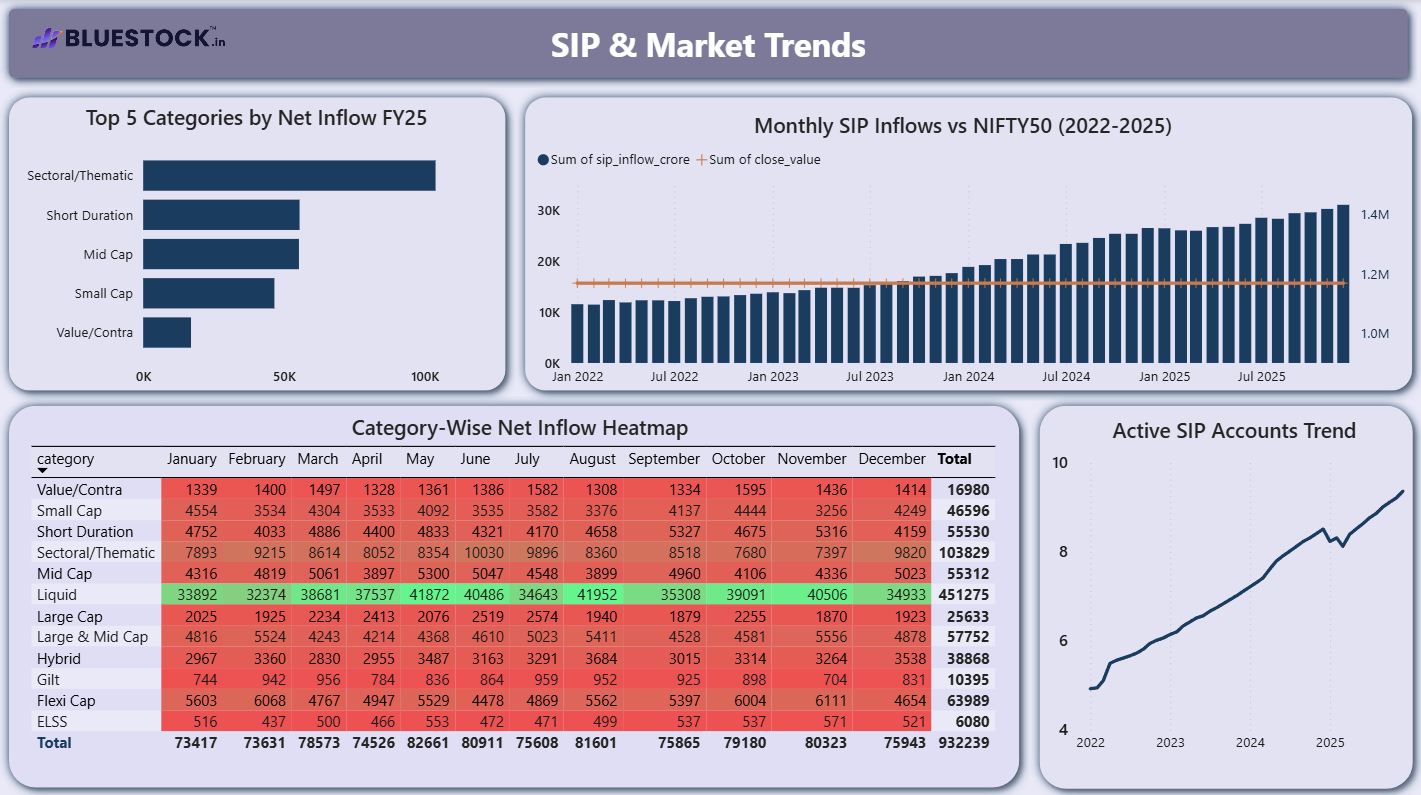

Layout of this report page (visuals, bound fields, positions):
{"tool":"powerbi","page":{"name":"SIP & Market Trends","canvas":[1280,720],"ordinal":3},"visuals":[{"type":"shape","box":[0,79.9,464.7,281.7],"z":0,"group":"g3"},{"type":"group","id":"g1","title":"Group 4","box":[464.7,79.9,816.1,281.7],"z":0},{"type":"shape","box":[464.7,79.9,816.1,281.7],"z":0,"group":"g1"},{"type":"shape","box":[0,357.7,927,361.4],"z":0,"group":"g2"},{"type":"shape","box":[927,357.7,353.6,362.5],"z":0,"group":"g4"},{"type":"clusteredBarChart","title":"Top 5 Categories by Net Inflow FY25","fields":{"Category":["05_category_inflows_clean.category"],"Y":["Sum(05_category_inflows_clean.net_inflow_crore)"]},"box":[17.3,94,430,265.2],"z":1000,"group":"g3"},{"type":"lineClusteredColumnComboChart","title":"Monthly SIP Inflows vs NIFTY50 (2022-2025)","fields":{"Category":["04_monthly_sip_inflows_clean.month"],"Y":["Sum(04_monthly_sip_inflows_clean.sip_inflow_crore)"],"Y2":["Sum(10_nifty50_monthly.close_value)"]},"box":[484.1,100.2,767,258.2],"z":1000,"group":"g1"},{"type":"group","id":"g2","title":"Group 4","box":[0,357.7,927,361.4],"z":1000},{"type":"pivotTable","title":"Category-Wise Net Inflow Heatmap","fields":{"Columns":["05_category_inflows_clean.month.Variation.Date Hierarchy.Month"],"Rows":["05_category_inflows_clean.category"],"Values":["Sum(05_category_inflows_clean.net_inflow_crore)"]},"box":[29,373.1,879.1,329.3],"z":1000,"group":"g2"},{"type":"lineChart","title":"Active SIP Accounts Trend","fields":{"Y":["Sum(04_monthly_sip_inflows_clean.active_sip_accounts_crore)"],"Category":["04_monthly_sip_inflows_clean.month"]},"box":[946.5,375.5,329.2,312.7],"z":1000,"group":"g4"},{"type":"group","id":"g3","title":"Group 4","box":[0,79.9,464.7,281.7],"z":2000},{"type":"group","id":"g4","title":"Group 4","box":[927,357.7,353.9,361.4],"z":3000},{"type":"shape","box":[0,0,1276.4,79.9],"z":4000},{"type":"image","box":[29,14.5,175.7,40.7],"z":5000}]}

Visuals, with their boxes in screenshot pixels (x1, y1, x2, y2), scaled from the page's 1280x720 canvas onto the 1421x795 screenshot:
shape: x1=0 y1=88 x2=516 y2=399
"Group 4" group: x1=516 y1=88 x2=1420 y2=399
shape: x1=516 y1=88 x2=1420 y2=399
shape: x1=0 y1=395 x2=1029 y2=794
shape: x1=1029 y1=395 x2=1420 y2=794
"Top 5 Categories by Net Inflow FY25" clusteredBarChart: x1=19 y1=104 x2=497 y2=397
"Monthly SIP Inflows vs NIFTY50 (2022-2025)" lineClusteredColumnComboChart: x1=537 y1=111 x2=1389 y2=396
"Group 4" group: x1=0 y1=395 x2=1029 y2=794
"Category-Wise Net Inflow Heatmap" pivotTable: x1=32 y1=412 x2=1008 y2=776
"Active SIP Accounts Trend" lineChart: x1=1051 y1=415 x2=1416 y2=760
"Group 4" group: x1=0 y1=88 x2=516 y2=399
"Group 4" group: x1=1029 y1=395 x2=1420 y2=794
shape: x1=0 y1=0 x2=1417 y2=88
image: x1=32 y1=16 x2=227 y2=61
